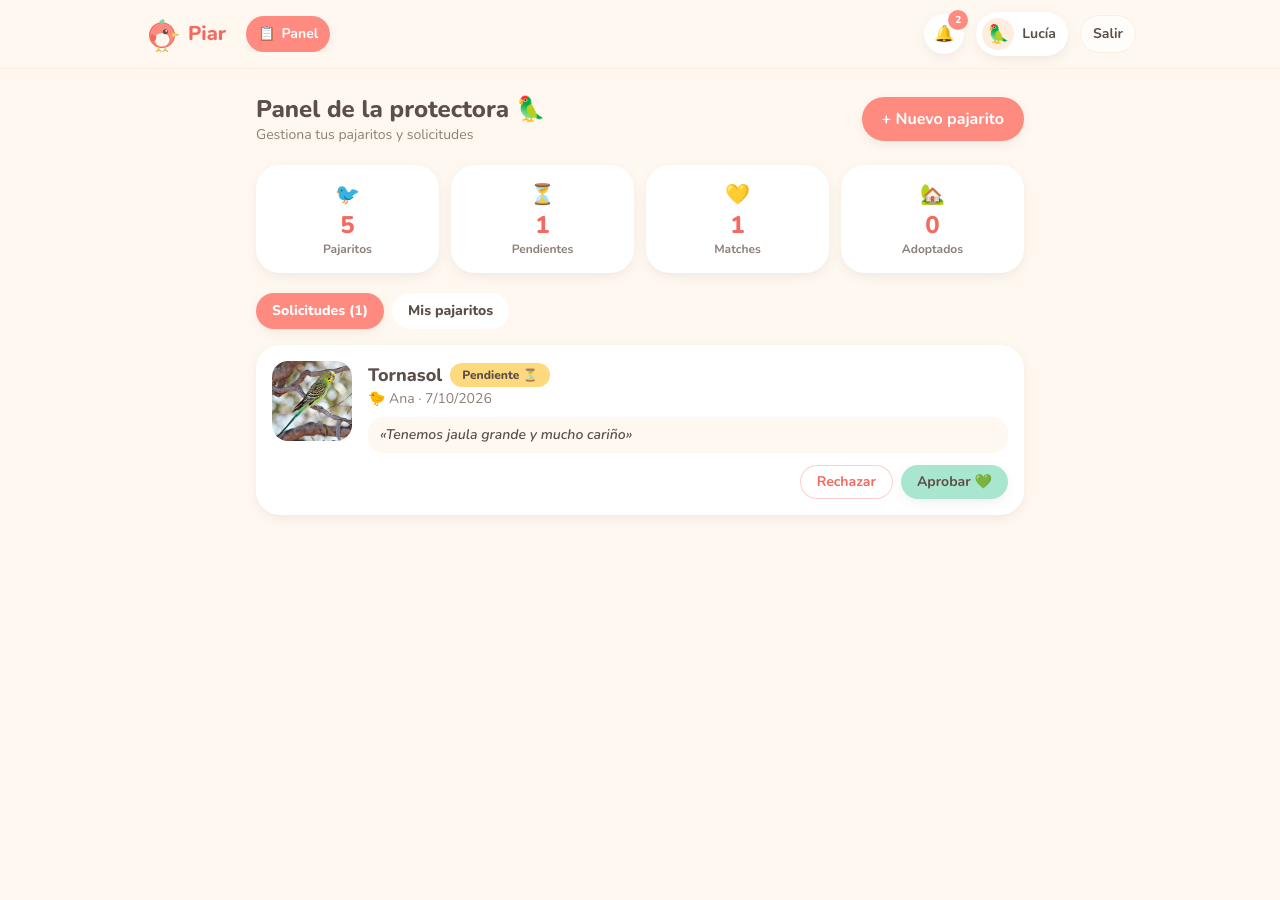
Scenario: panel de la protectora › aprueba y completa una solicitud cambiando el estado del pájaro
Expected: the heading "Tornasol" is shown, [368,361,442,389]
Expected: the text "Pendiente ⏳" is shown, [450,363,550,387]
Click the button "Aprobar 💚" at [954, 482], box [901,465,1008,499]
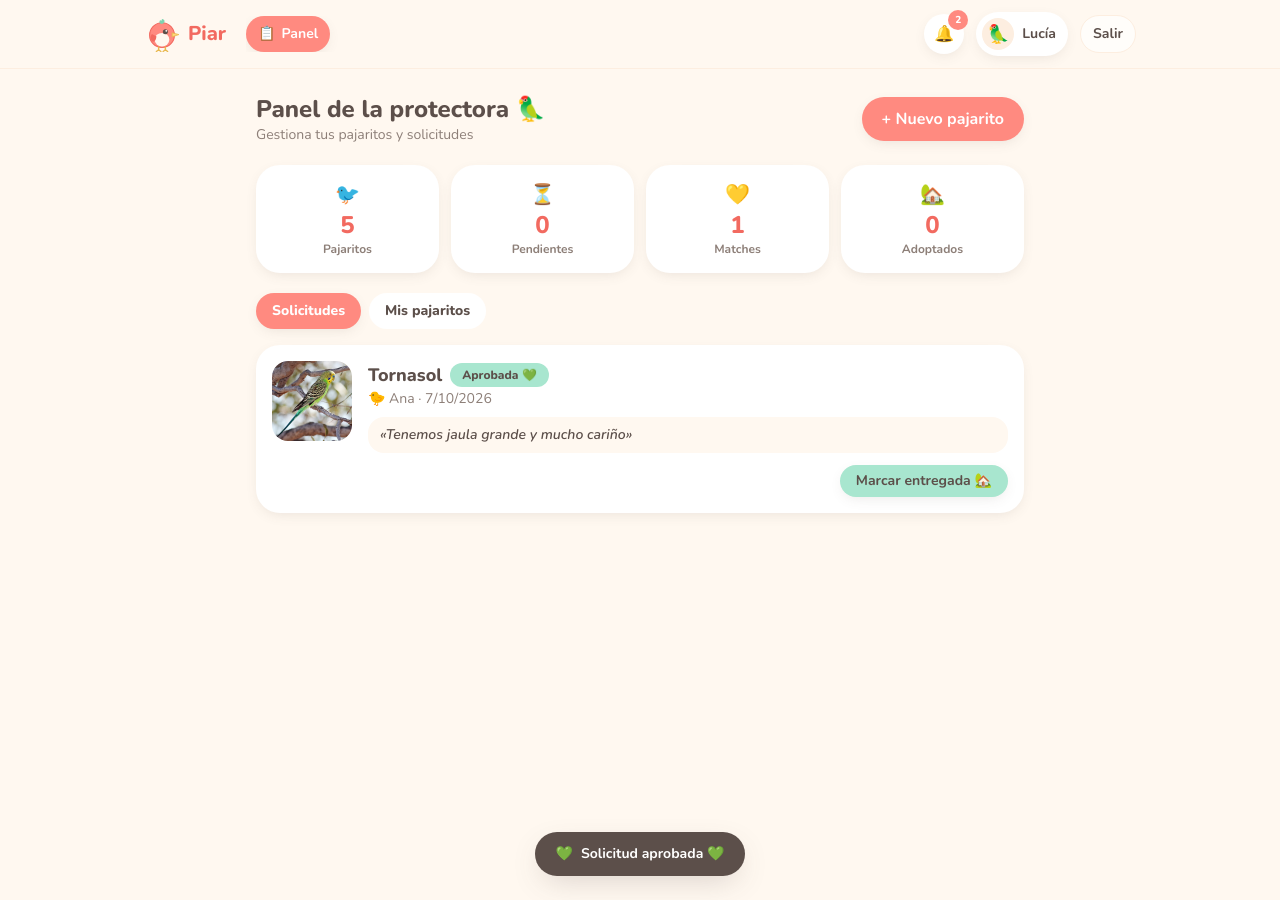
Expected: the text "Aprobada 💚" is shown, [450,363,549,387]
Expected: the button "Marcar entregada 🏡" is shown
Click the button "Marcar entregada 🏡" at [924, 481], box [840,465,1008,497]
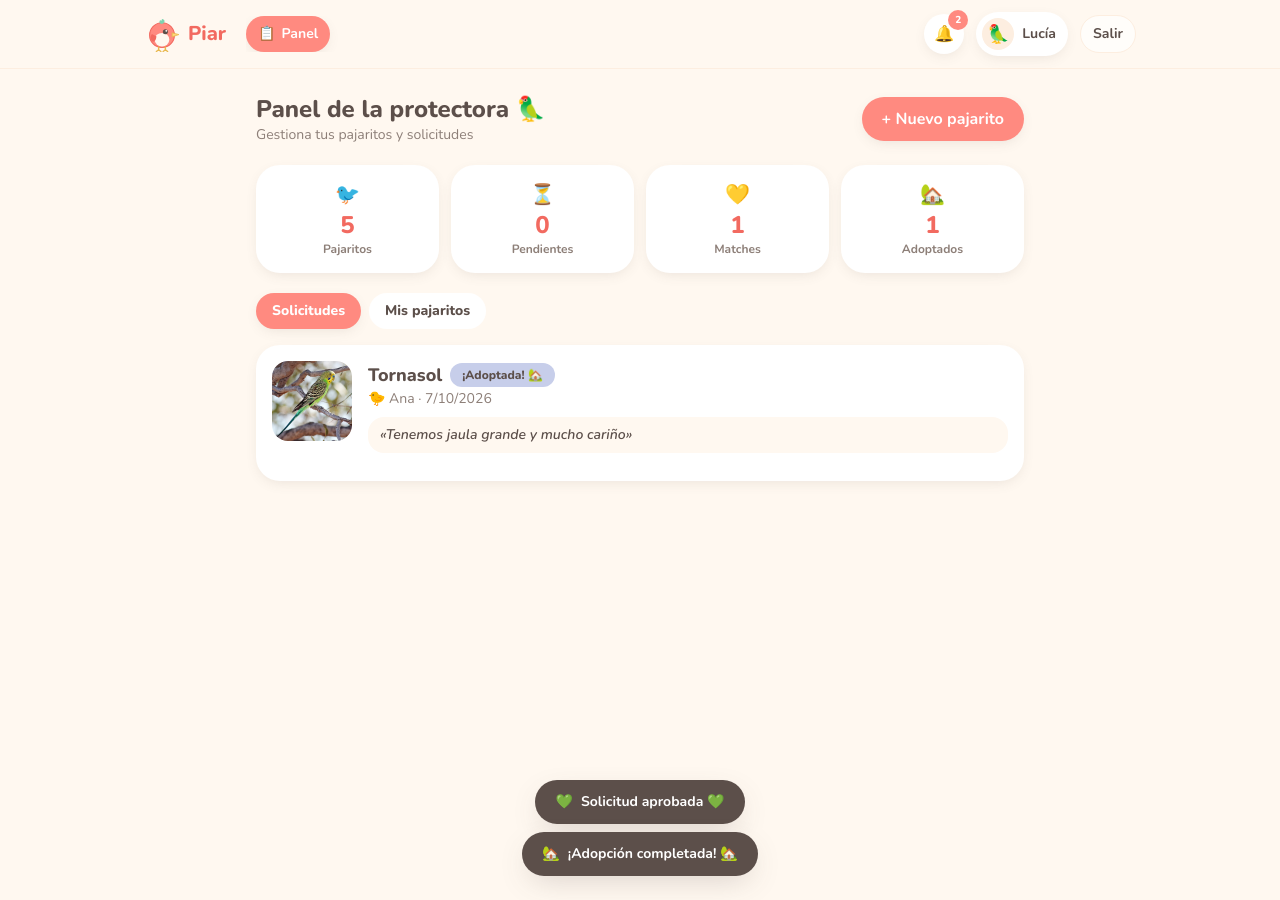
Expected: the text "¡Adopción completada! 🏡" is shown, [568,844,738,863]
